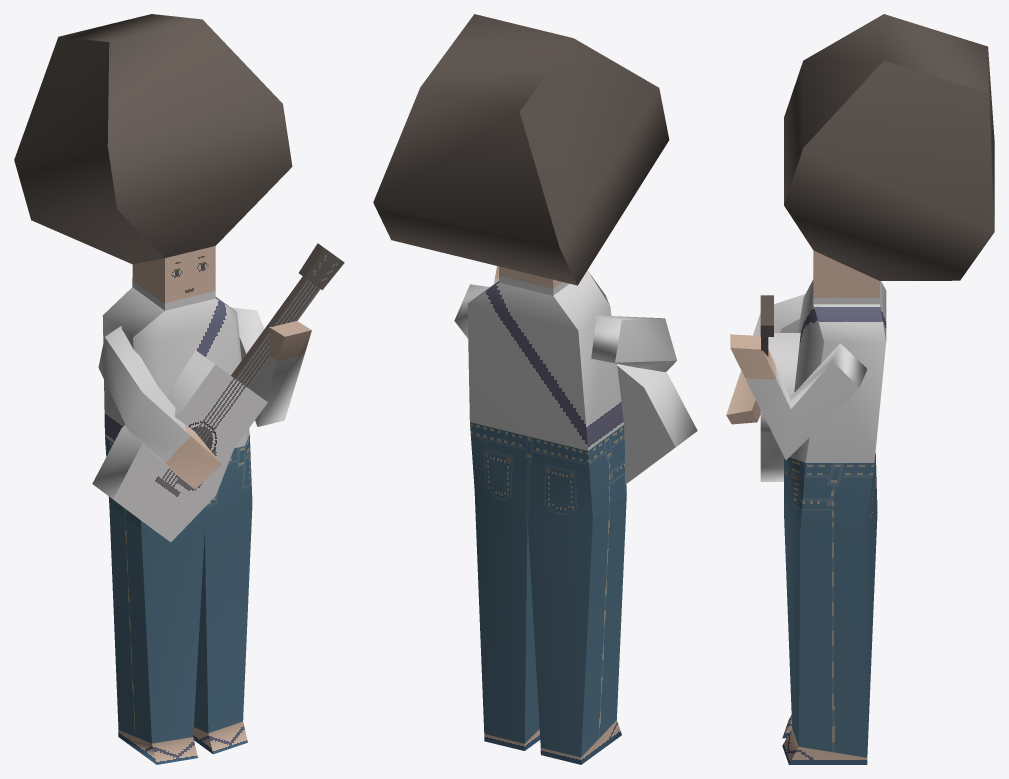
Rendered from 024a_Busker.glb.
The picture shows the model from 3 angles, left to right: view 1: azimuth 30°, elevation 25°; view 2: azimuth 150°, elevation 25°; view 3: azimuth 270°, elevation 25°; orthographic projection. The views are drawn at different scales.
Parts seen in each view (by area): view 1: part_0; view 2: part_0; view 3: part_0.
Boxes of the visible parts, left/top/right/bottom form: part_0: left=14, top=14, right=344, bottom=764; part_0: left=373, top=14, right=697, bottom=764; part_0: left=726, top=14, right=994, bottom=764.
Bounding box in the file's own units: 0.8371 × 2.38 × 0.8221.
Materials: 1 (1 with a texture image).
